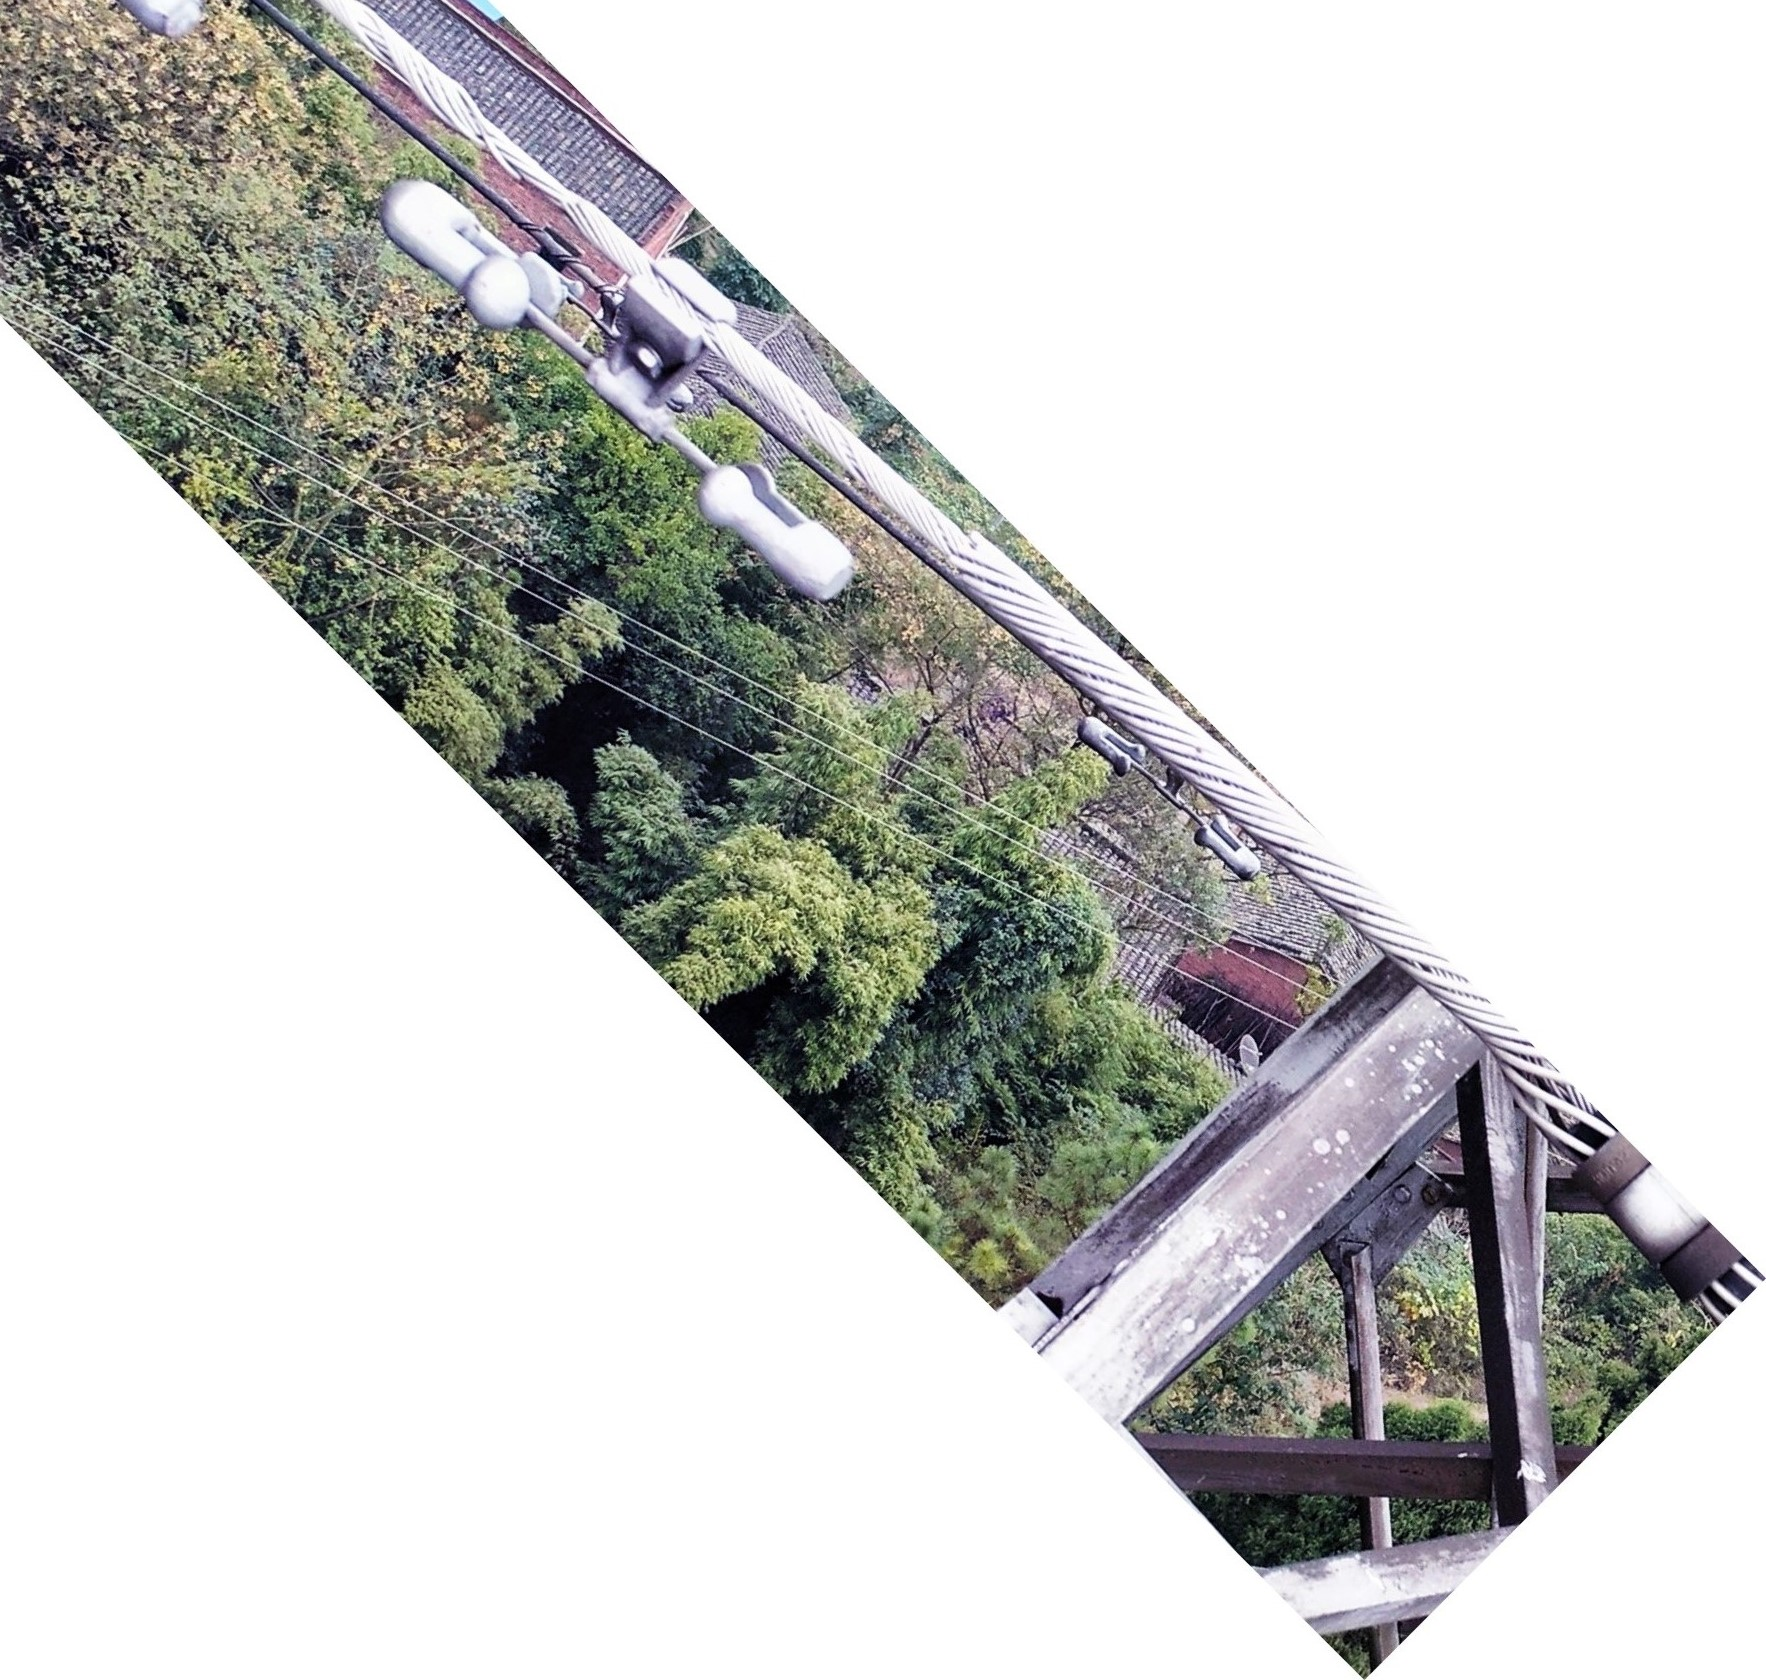Shockproof hammer: (372, 145, 878, 620)
